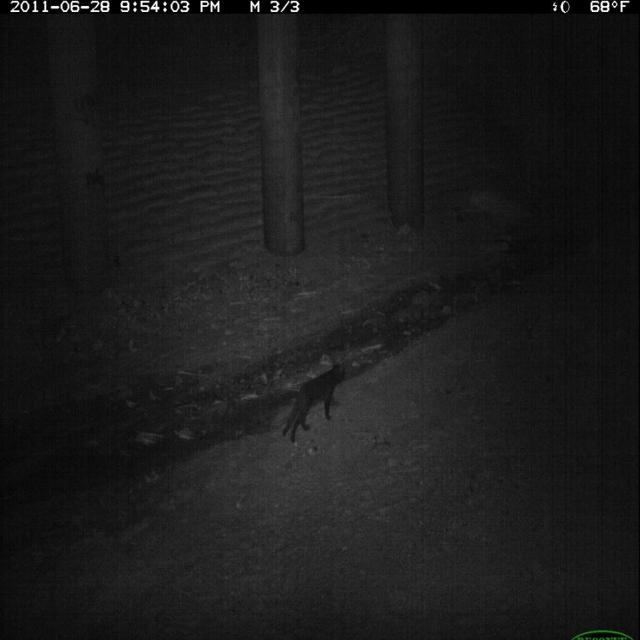cat: (279, 356, 351, 450)
